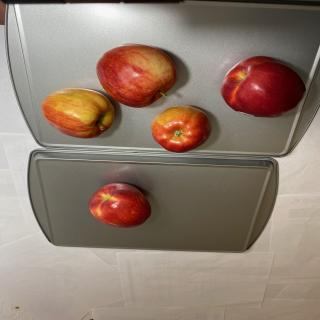Apple: (220, 56, 306, 118), (96, 43, 178, 108), (40, 88, 114, 138), (150, 105, 212, 153), (88, 182, 152, 228)
